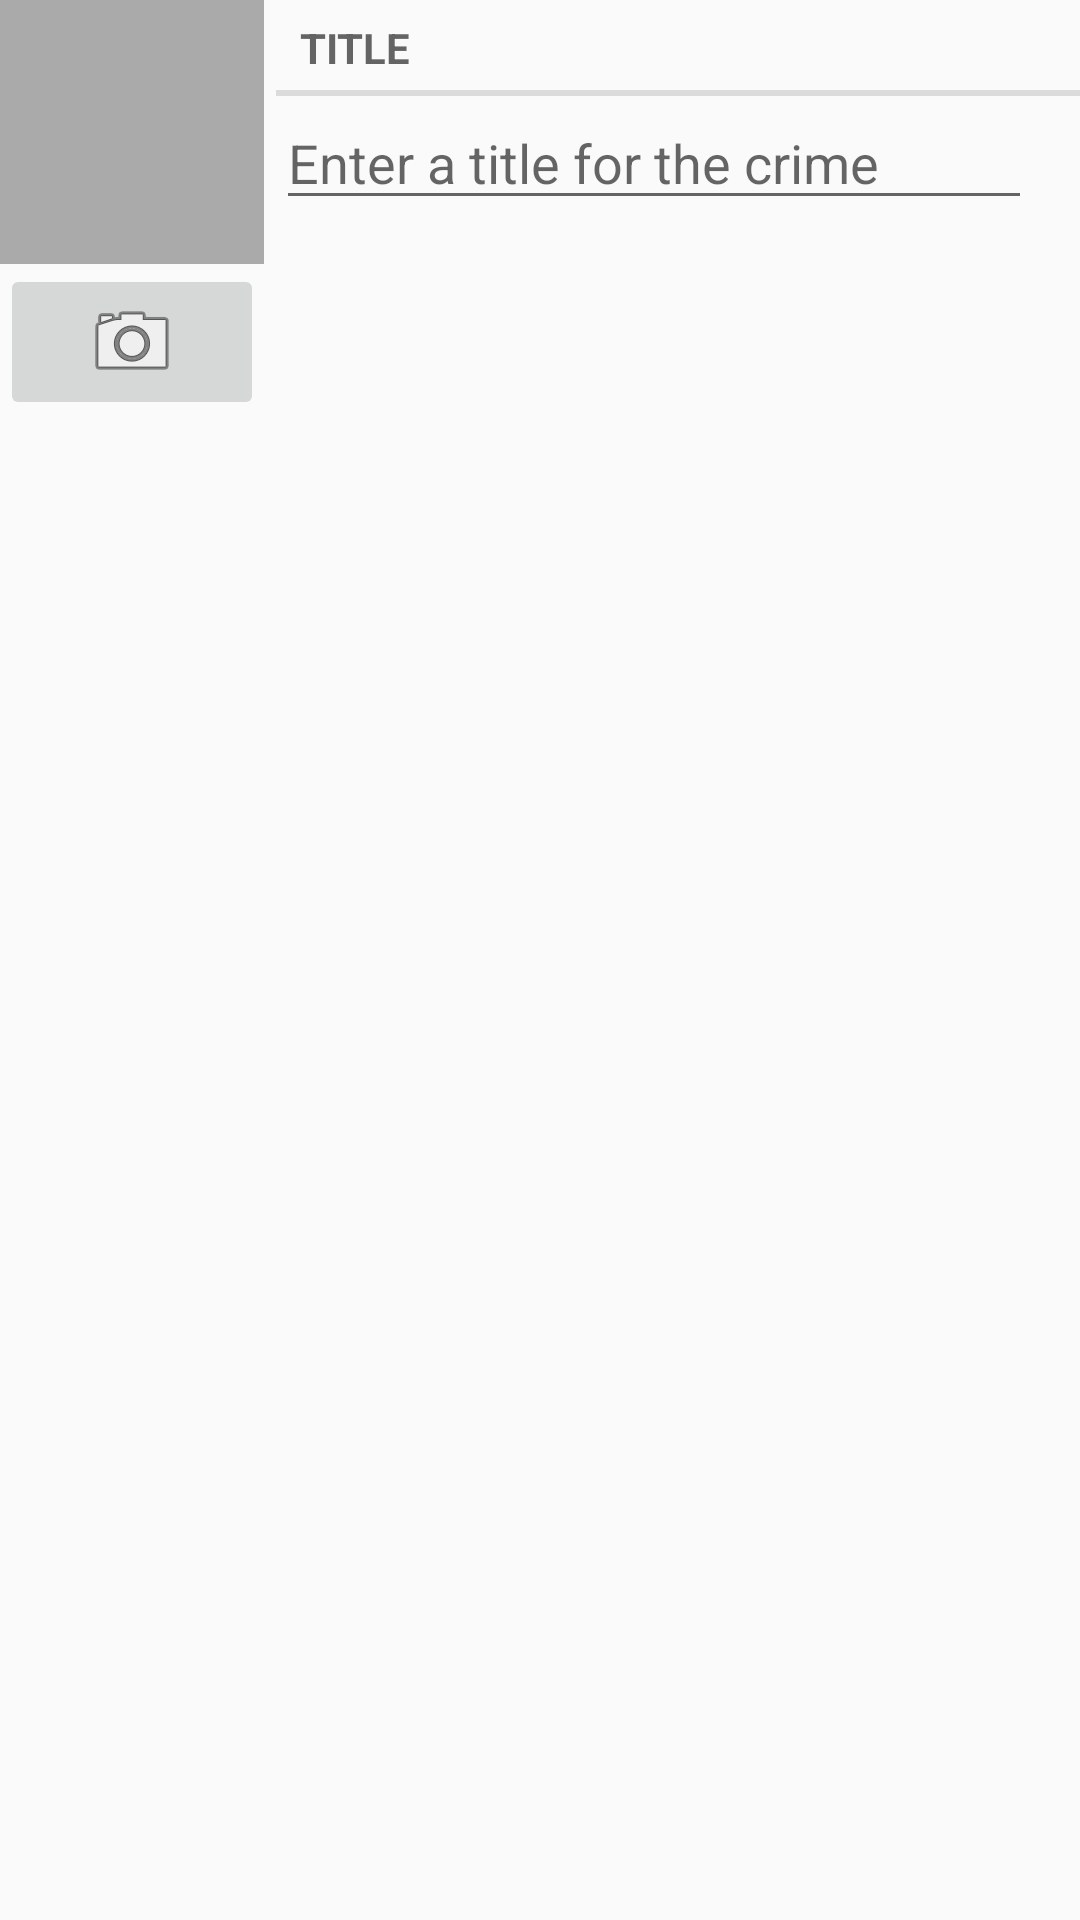

Icons on this 1080x1920 Android screen, each with its box as (x1, y1, x2, y2):
camera: (12, 282, 252, 402)
